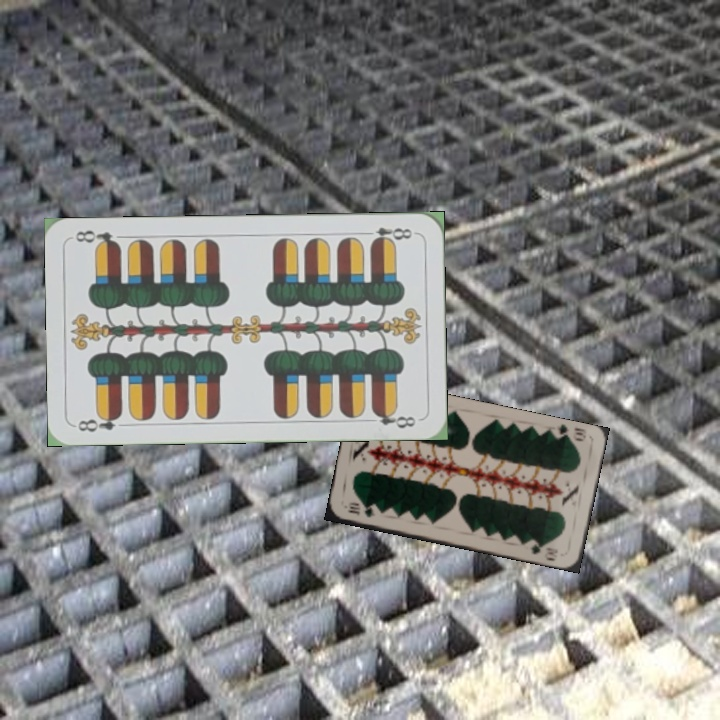E8: (359, 223, 415, 246), (74, 410, 124, 435)
G10: (550, 421, 589, 444), (343, 500, 377, 520)
